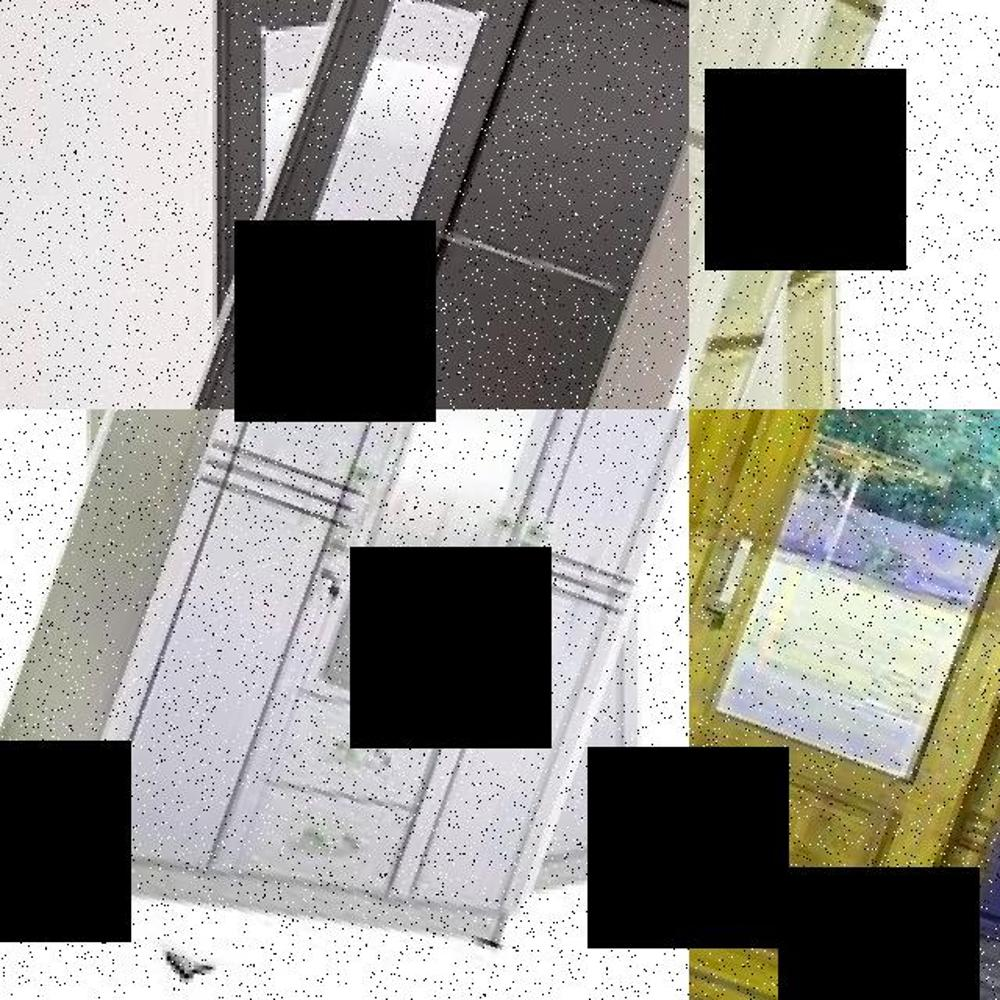cabinet: (11, 409, 689, 1000), (131, 0, 689, 409), (689, 409, 1000, 1000), (689, 0, 1000, 409)
